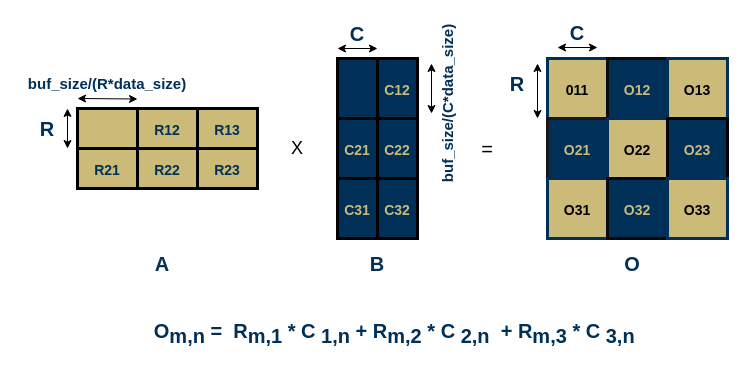
Some shapes in this 746 by 365 pixel diagram are drawn without their labels. The centre of each missing label's shape, as x and y in pixels:
C 11: the point at 357,88
R 11: the point at 107,128
